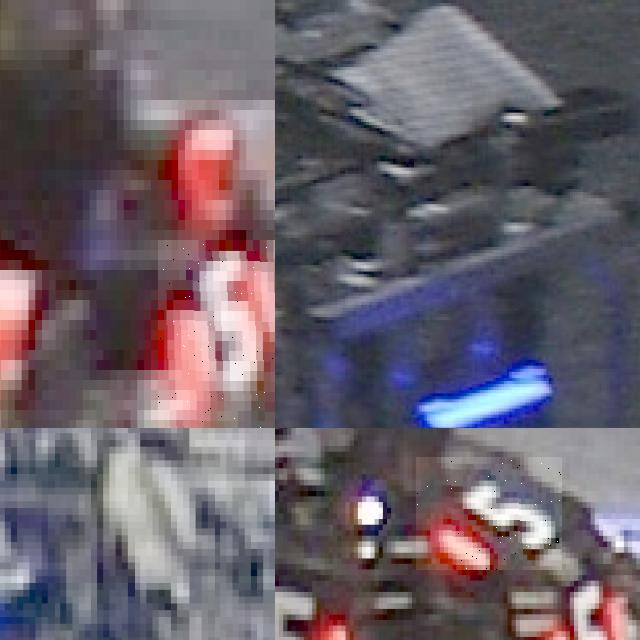R5: (157, 240, 275, 428), (416, 457, 562, 570), (536, 572, 632, 640), (275, 580, 358, 640)
